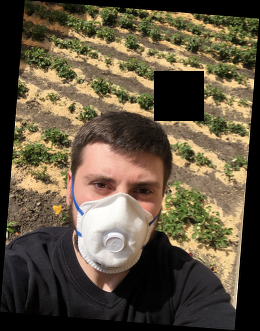with_mask: (75, 159, 161, 274)
